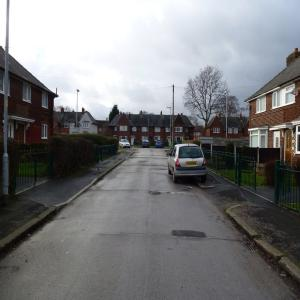Vehicle-registration-plate: (187, 162, 199, 166)
